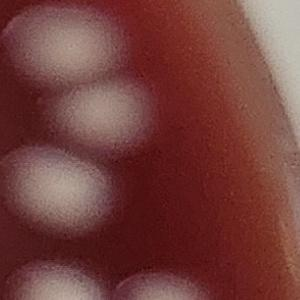colony: (0, 136, 128, 249), (0, 0, 137, 100), (28, 70, 166, 167), (0, 251, 118, 300), (106, 268, 221, 300)
